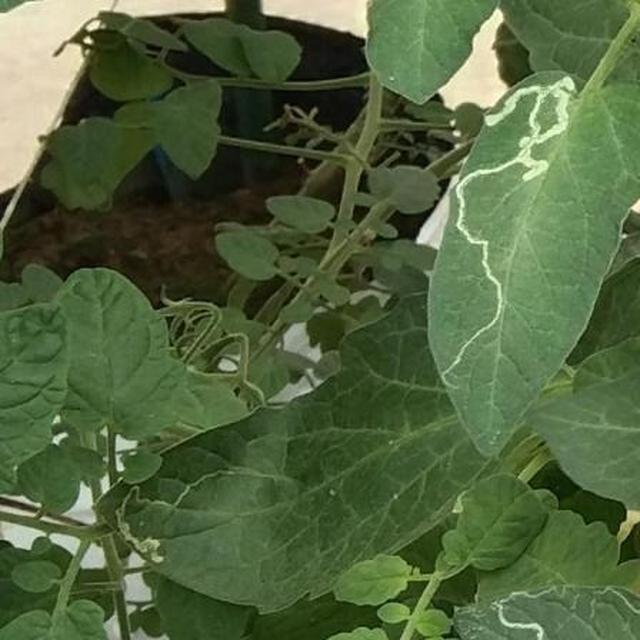Leaf Miner: (486, 102, 640, 640)
